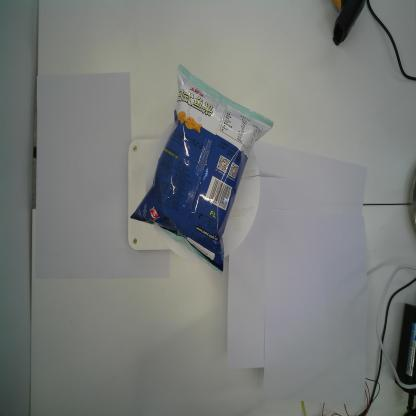Puffed Food: (130, 64, 274, 275)
